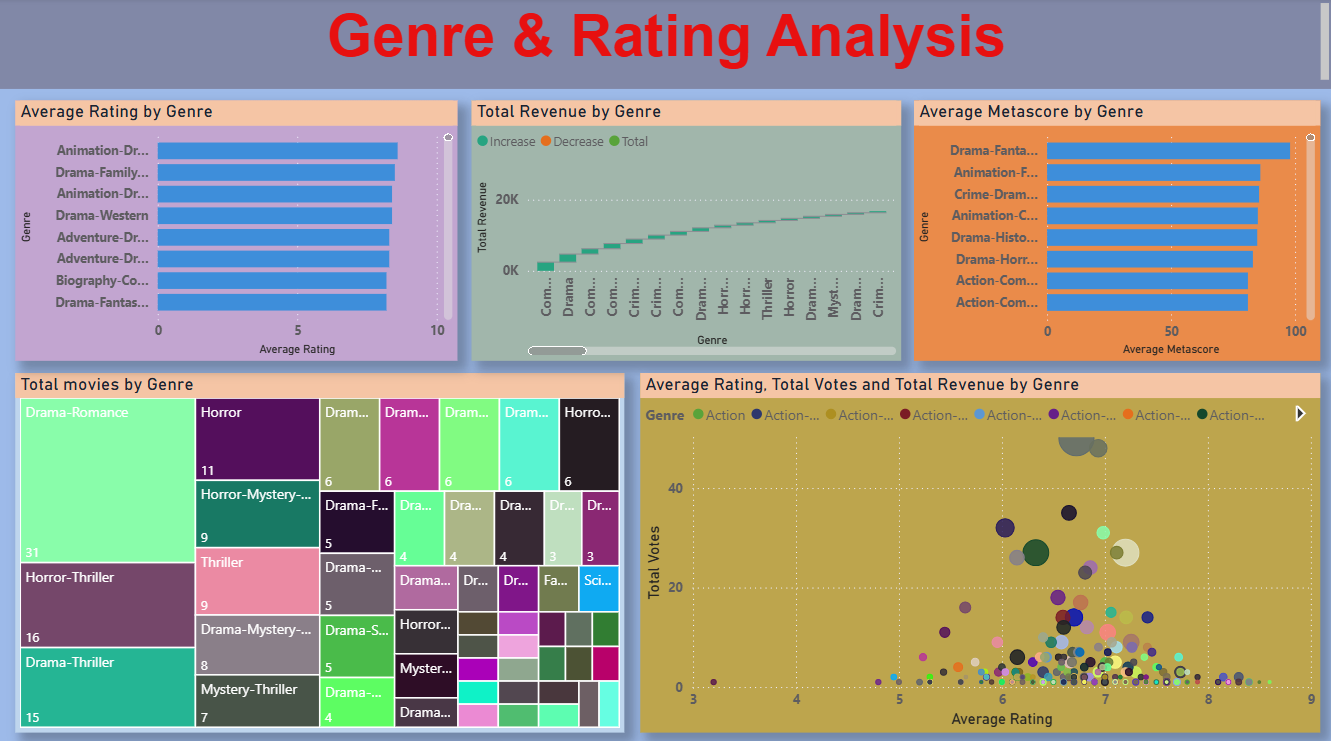

The page's visual inventory and layout, read from the dashboard file:
{"tool":"powerbi","page":{"name":"Genre & Rating ","canvas":[1280,720],"ordinal":1},"visuals":[{"type":"treemap","fields":{"Group":["IMDB-Movie-Data.Genre"],"Values":["IMDB-Movie-Data.Total movies"]},"box":[15.9,359.2,584.3,344.8],"z":0},{"type":"barChart","fields":{"Category":["IMDB-Movie-Data.Genre"],"Y":["IMDB-Movie-Data.Average Rating"]},"box":[15.6,98.3,424.3,249.3],"z":1000},{"type":"waterfallChart","fields":{"Category":["IMDB-Movie-Data.Genre"],"Y":["IMDB-Movie-Data.Total Revenue"]},"box":[453,98.3,412.3,249.3],"z":2000},{"type":"barChart","fields":{"Category":["IMDB-Movie-Data.Genre"],"Y":["IMDB-Movie-Data.Average Metascore"]},"box":[877.2,98.1,389.5,249.6],"z":3000},{"type":"scatterChart","fields":{"Series":["IMDB-Movie-Data.Genre"],"Size":["IMDB-Movie-Data.Total Revenue"],"X":["IMDB-Movie-Data.Average Rating"],"Y":["IMDB-Movie-Data.Total Votes"]},"box":[614.6,359.2,652.1,344.8],"z":4000},{"type":"textbox","box":[0,0,1280.5,87.5],"z":5000}]}

Visuals, with their boxes in screenshot pixels (x1, y1, x2, y2), scaled from the page's 1280x720 canvas onto the 1331x741 screenshot:
treemap - IMDB-Movie-Data.Genre x IMDB-Movie-Data.Total movies: bbox(17, 370, 624, 725)
barChart - IMDB-Movie-Data.Genre x IMDB-Movie-Data.Average Rating: bbox(16, 101, 457, 358)
waterfallChart - IMDB-Movie-Data.Genre x IMDB-Movie-Data.Total Revenue: bbox(471, 101, 900, 358)
barChart - IMDB-Movie-Data.Genre x IMDB-Movie-Data.Average Metascore: bbox(912, 101, 1317, 358)
scatterChart - IMDB-Movie-Data.Genre x IMDB-Movie-Data.Total Revenue: bbox(639, 370, 1317, 725)
textbox: bbox(0, 0, 1330, 90)
